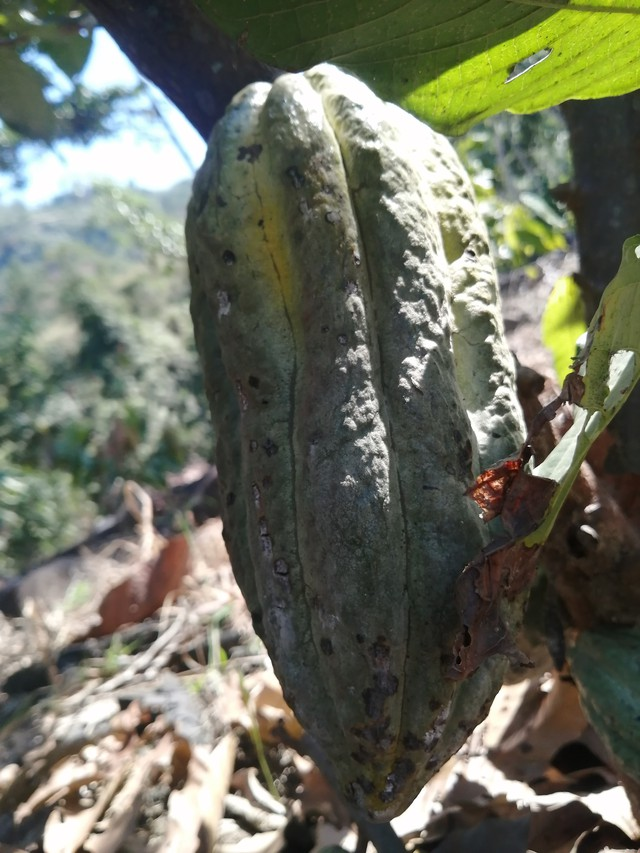moniliophthora perniciosa: (162, 43, 562, 834)
